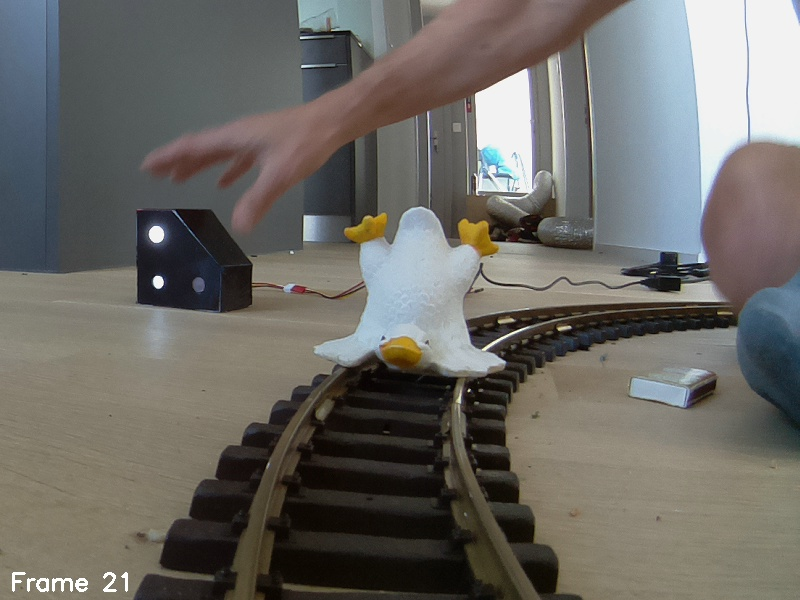Ente: (308, 202, 511, 394)
Fahrt: (136, 206, 255, 314)
